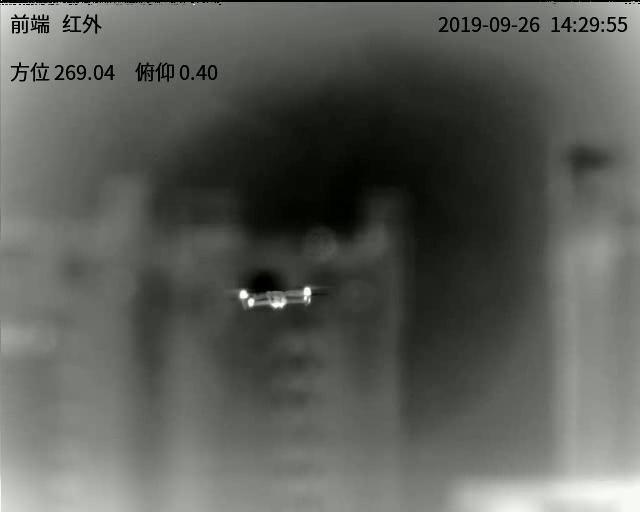DRONE: (239, 286, 313, 310)
